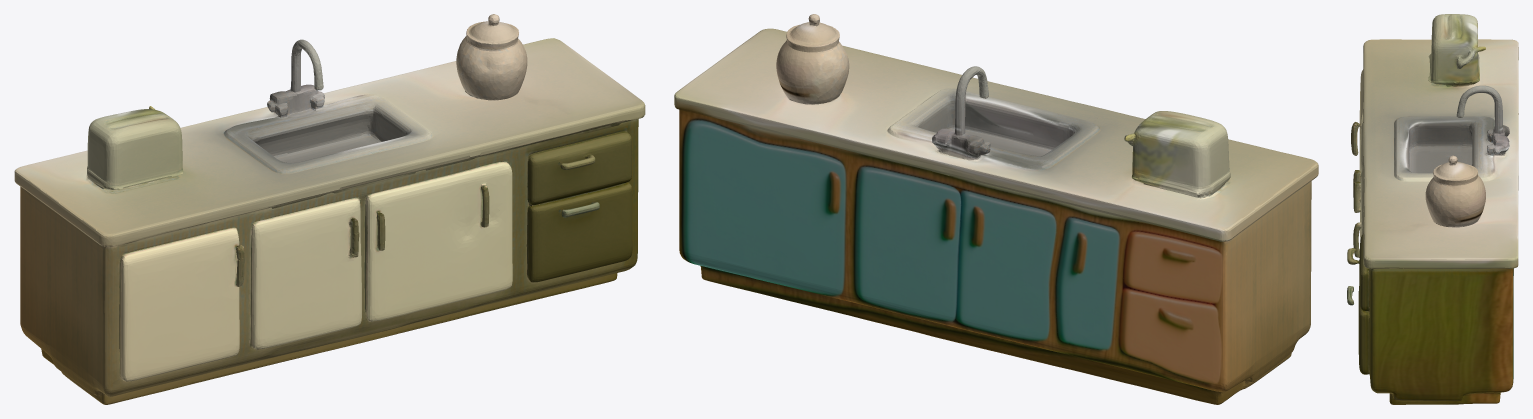
Rendered from kitchen_counter.glb.
3 views of the same model, side by side, from view 1: azimuth 30°, elevation 25°; view 2: azimuth 150°, elevation 25°; view 3: azimuth 270°, elevation 25° (orthographic). The views are drawn at different scales.
Visible parts, largest first — view 1: geometry_0; view 2: geometry_0; view 3: geometry_0.
Boxes of the visible parts, x1=… form: geometry_0: x1=14, y1=14, x2=645, y2=404; geometry_0: x1=674, y1=14, x2=1318, y2=404; geometry_0: x1=1347, y1=14, x2=1518, y2=404.
Size of the model in its own units: 1 by 0.4587 by 0.33.
Materials: 1 (1 with a texture image).
